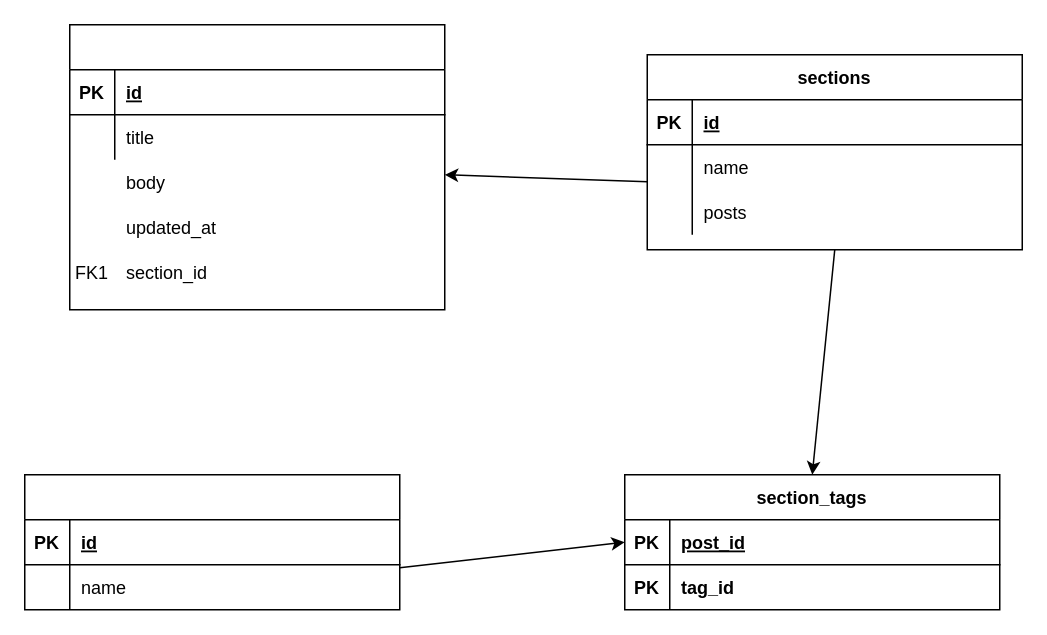
The diagram is 1047 pixels wide and 635 high, and some of its shapes have lost their labels. Here are the shapes that lost their labels. From the top down, the box of each, then its label:
(68, 23, 445, 310): post
(23, 473, 400, 610): tags
